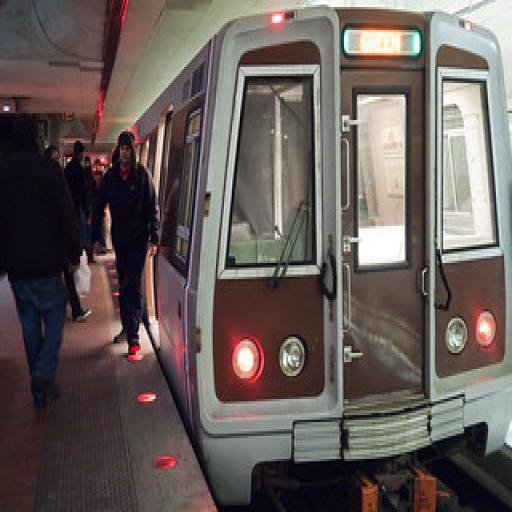platform_edge: (94, 348, 230, 512)
